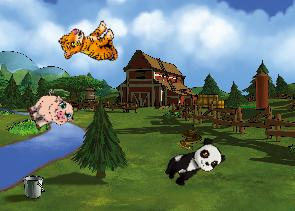panda: (160, 134, 227, 192)
pig: (23, 85, 77, 138)
tiger: (56, 14, 123, 77)
